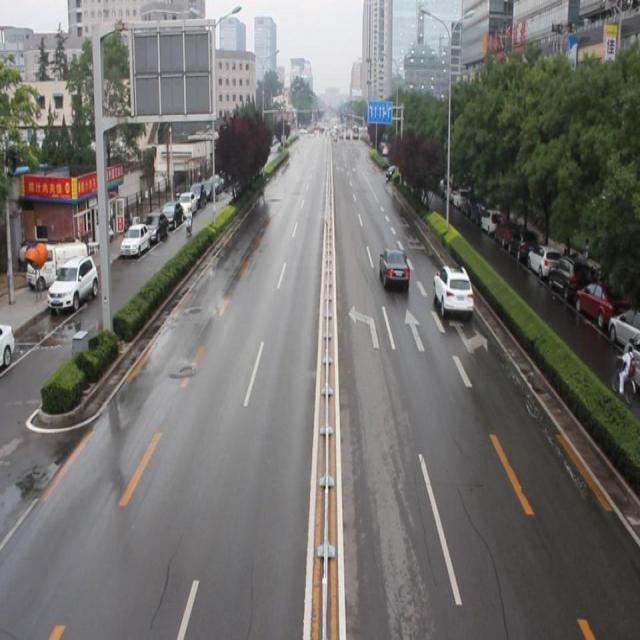car: (432, 263, 474, 315), (378, 250, 409, 288), (384, 164, 396, 180)
